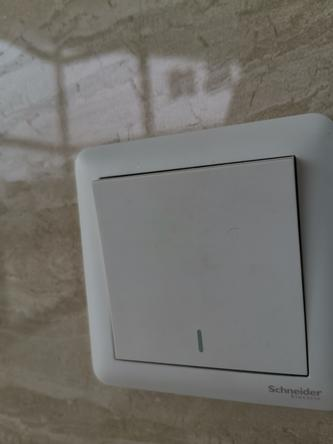switch: (89, 146, 313, 387)
